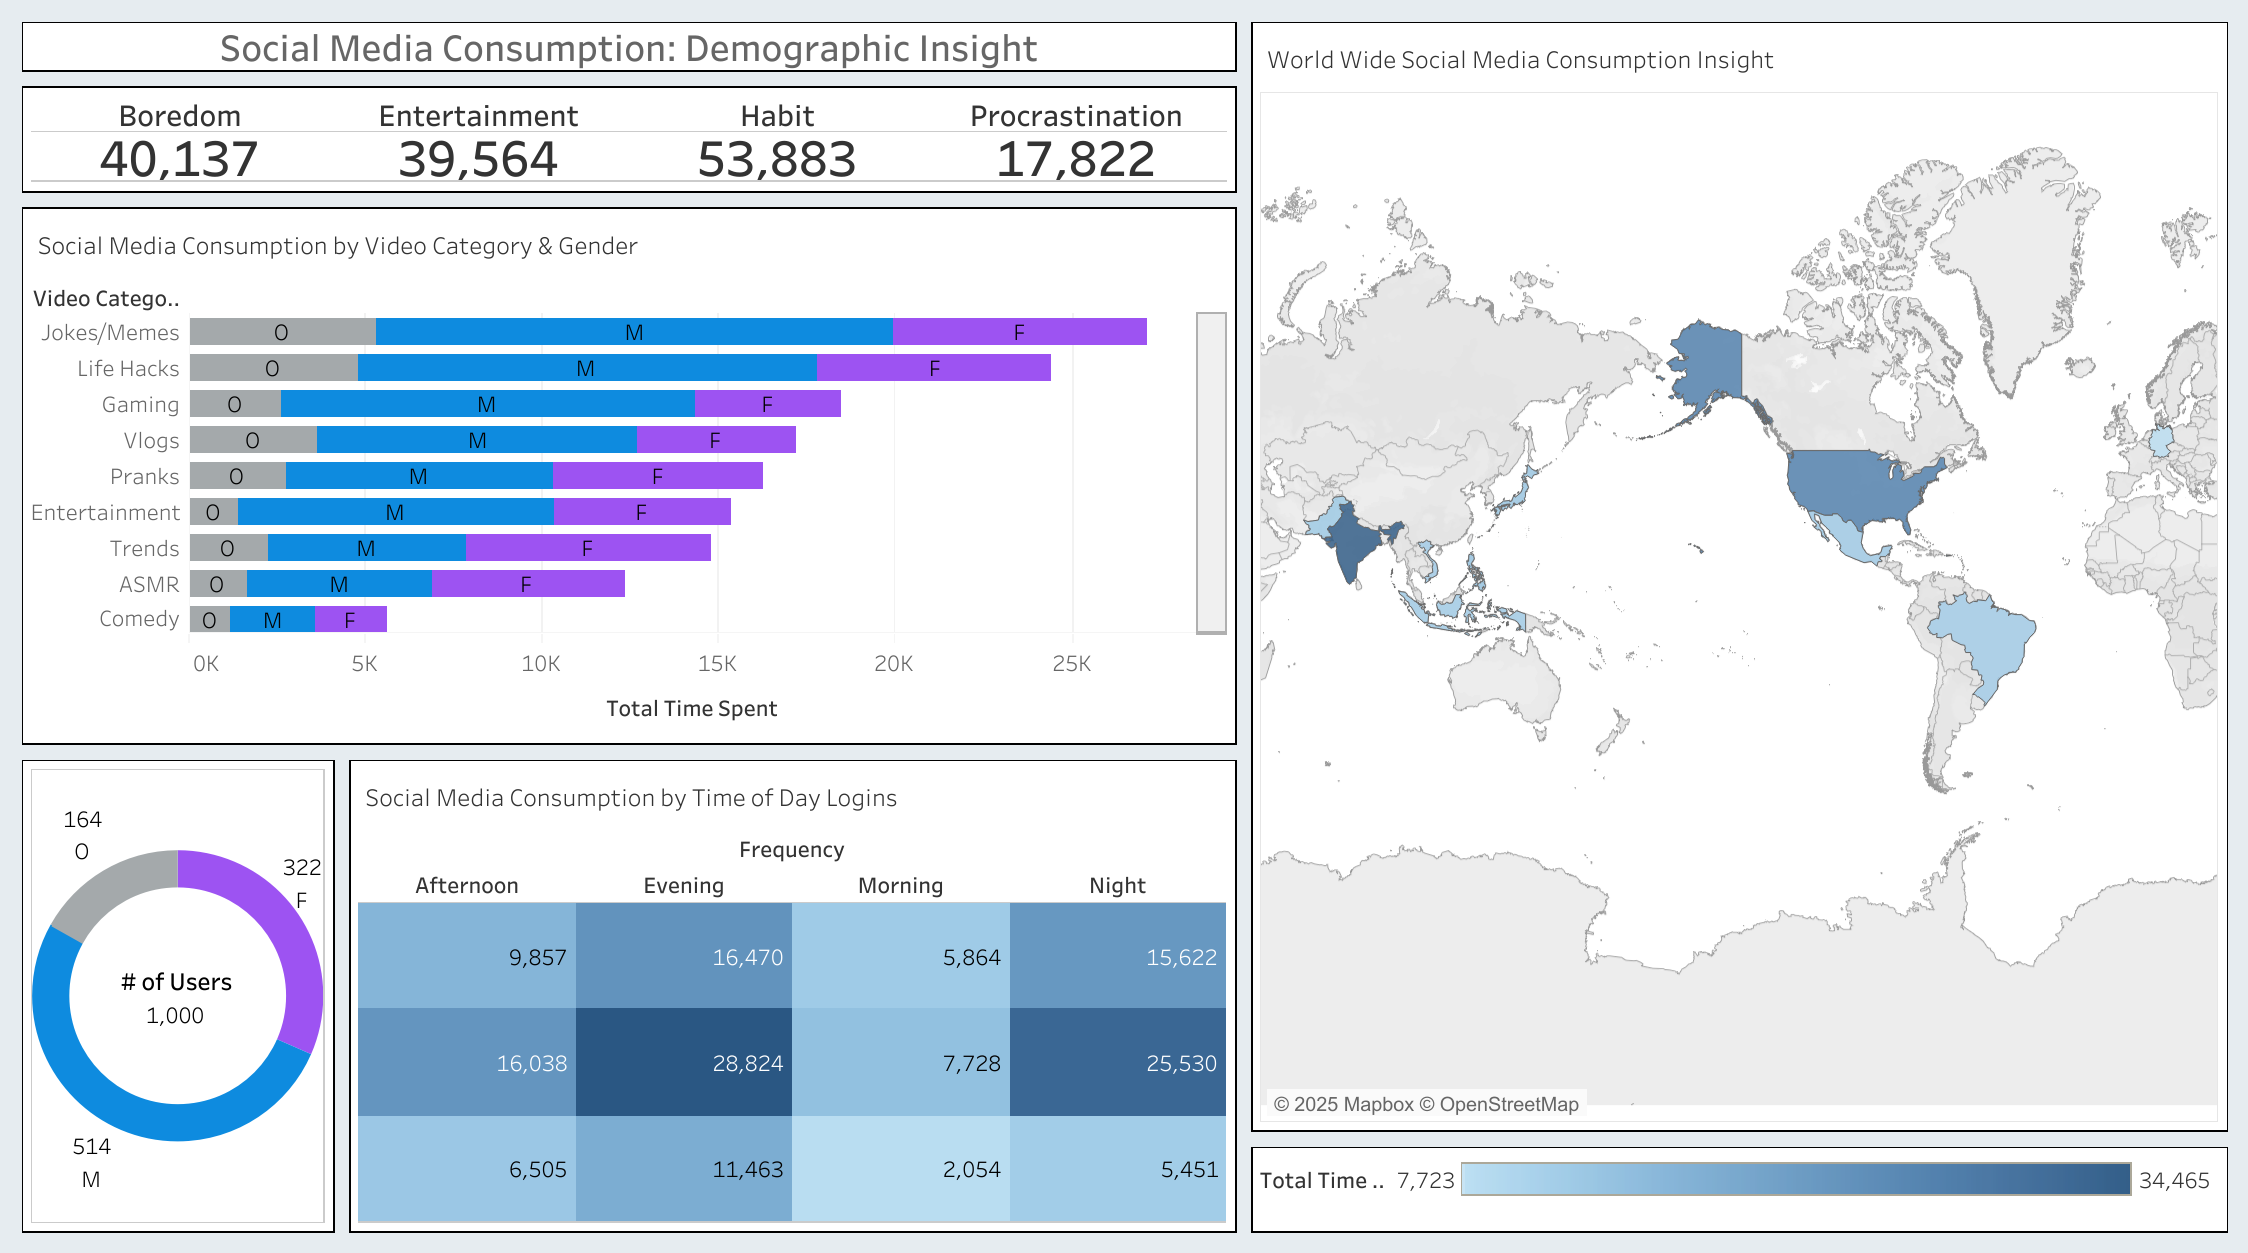

Layout of this report page (visuals, bound fields, positions):
{"tool":"tableau","page":{"name":"Social Media Consumption: Demographic Dashboard","canvas":[1000,1000],"units":"permille","ordinal":1},"visuals":[{"type":"text","box":[6.5,11.8,546,53.2]},{"type":"worksheet","title":"World Wide Social Media Consumption Insight","mark":"Multipolygon","box":[552.5,11.8,441,896.4]},{"type":"worksheet","title":"Motivations for Social Media Use: Time Investment","mark":"Automatic","cols":["Watch Reason"],"box":[6.5,65.1,546,99.1]},{"type":"worksheet","title":"Social Media Consumption by Video Category & Gender","mark":"Automatic","rows":["Video Category"],"cols":["Total Time Spent"],"box":[6.5,164.2,546,454.1]},{"type":"worksheet","title":"# of Users","mark":"Pie","rows":["Calculation_618682029724557315","Calculation_618682029724557315"],"box":[6.5,618.3,148.1,369.8]},{"type":"worksheet","title":"Social Media Consumption by Time of Day Logins","mark":"Square","rows":["Gender"],"cols":["Frequency"],"box":[154.6,618.3,397.9,369.8]},{"type":"legend","title":"World Wide Social Media Consumption Insight","param":"[federated.15p88yj12m8l1z1fck2071ewibt9].[sum:Total Time Spent:qk]","box":[552.5,908.2,441,79.9]}]}

Visuals, with their boxes on the dashboard's canvas, which has no fixed pixel size, in thousandths of its width and height (x1, y1, x2, y2). These are canvas units, not pixel positions in the 2248x1253 screenshot, which may show the page scaled, cropped or inside an application window:
text: (x1=6, y1=12, x2=552, y2=65)
"World Wide Social Media Consumption Insight" worksheet (Multipolygon marks): (x1=552, y1=12, x2=994, y2=908)
"Motivations for Social Media Use: Time Investment" worksheet: (x1=6, y1=65, x2=552, y2=164)
"Social Media Consumption by Video Category & Gender" worksheet: (x1=6, y1=164, x2=552, y2=618)
"# of Users" worksheet (Pie marks): (x1=6, y1=618, x2=155, y2=988)
"Social Media Consumption by Time of Day Logins" worksheet (Square marks): (x1=155, y1=618, x2=552, y2=988)
"World Wide Social Media Consumption Insight" legend: (x1=552, y1=908, x2=994, y2=988)
